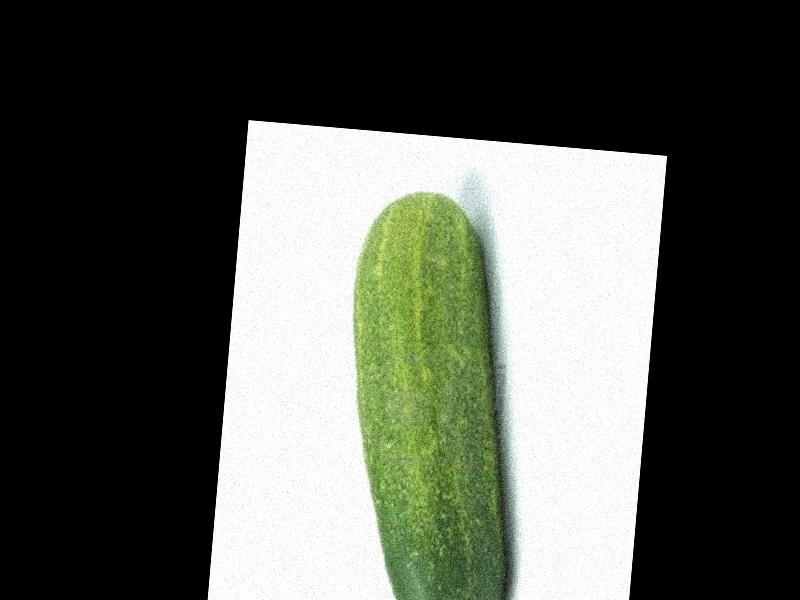Cucumber: (326, 187, 539, 600)
